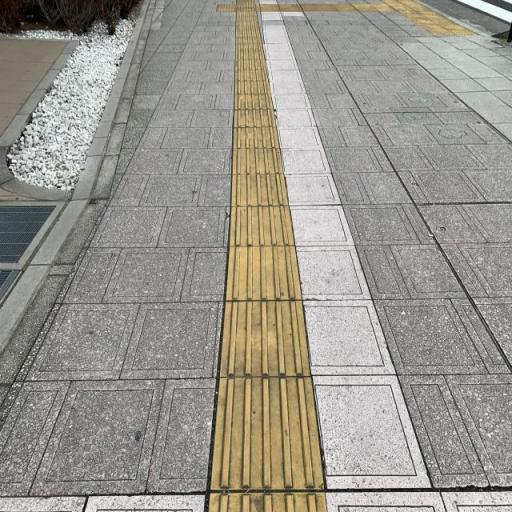line: (208, 375, 324, 491), (217, 301, 312, 377), (224, 246, 301, 301), (228, 206, 295, 247)
